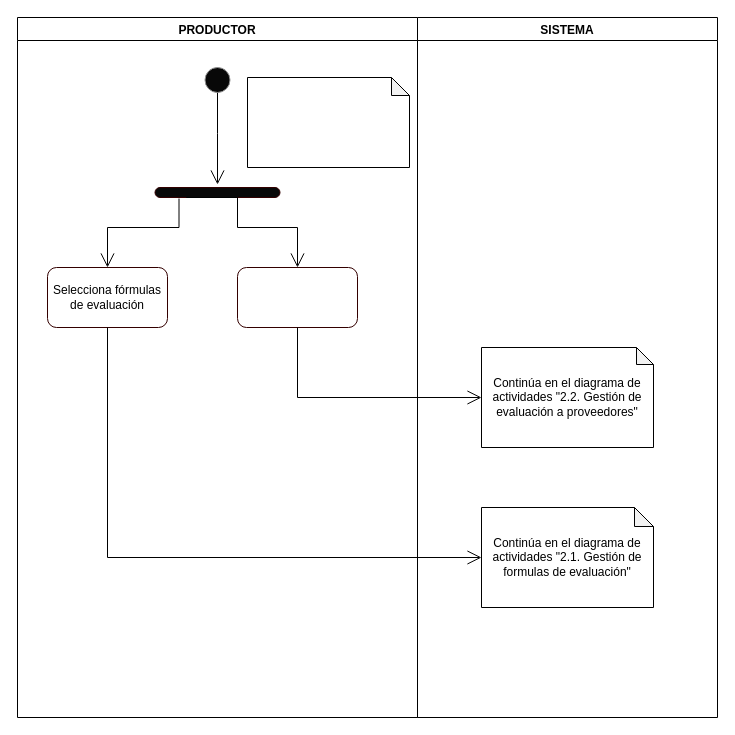
This 735x735 diagram has some shape labels left out. Here are the shapes that lost their labels. From the top down, the centre of each, then its label:
At point (328, 122): "Este flujo se inicia cuando el productor selecciona Menú de evaluaciones".
At point (297, 297): "Selecciona evaluaciones a proveedores".
